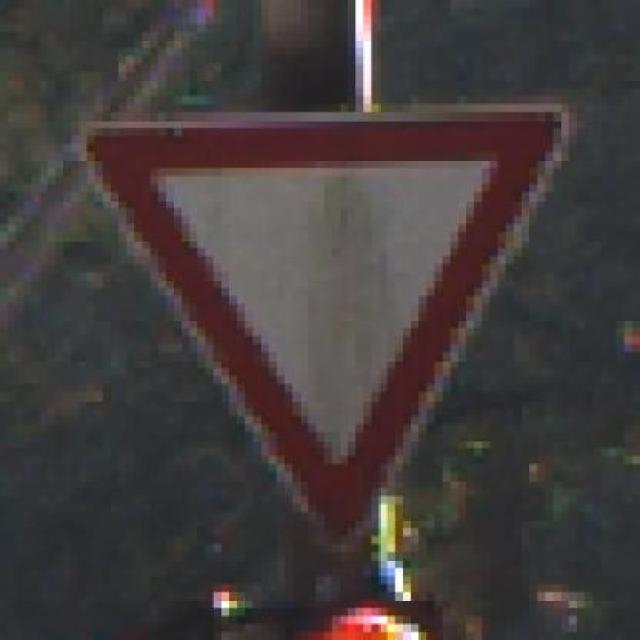Give Way: (63, 88, 585, 560)
